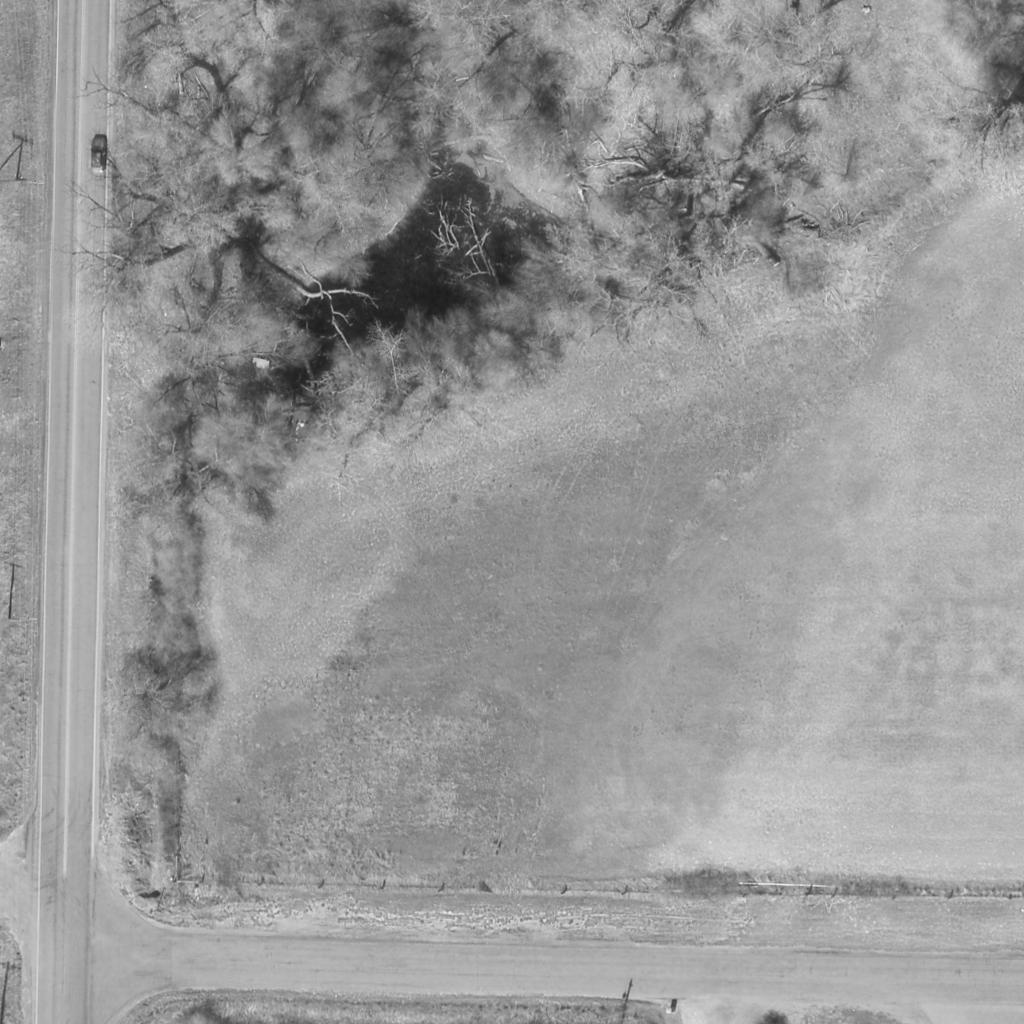vehicle: (89, 134, 109, 174)
